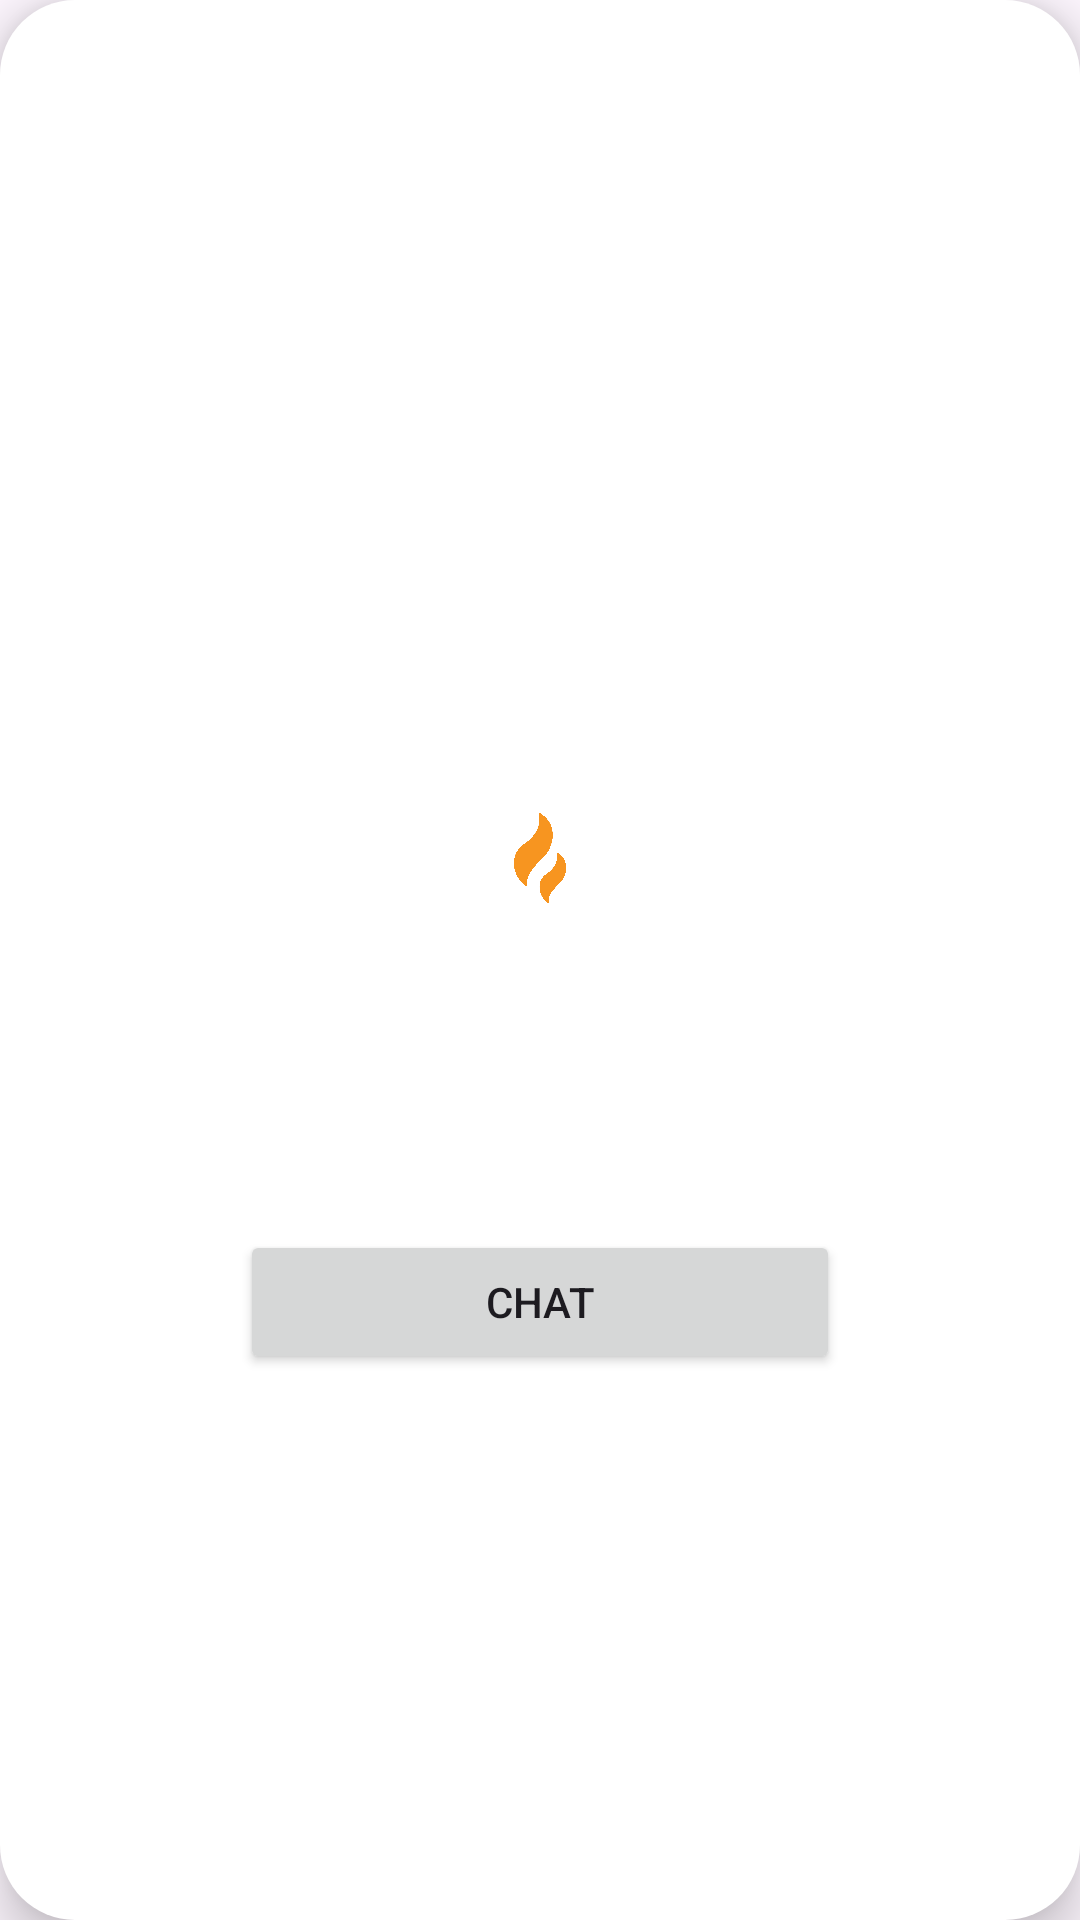

Where icons sit on this 1080px×1920px app screen, as (x1, y1, x2, y2):
fire: (514, 813, 566, 903)
